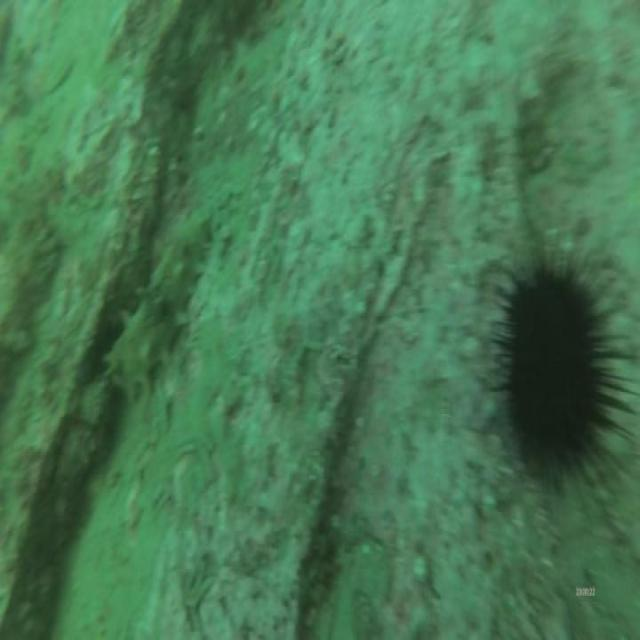echinus: (506, 269, 604, 474)
holothurian: (103, 208, 212, 400)
